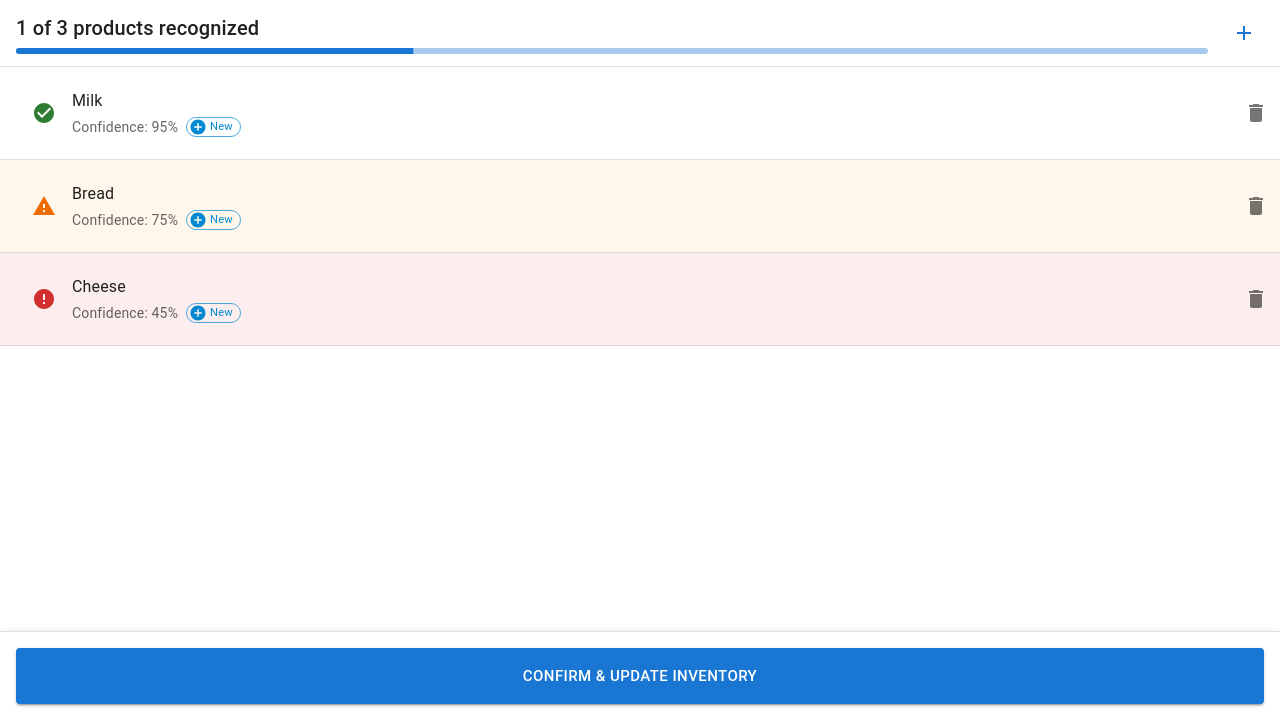
Test case: ReceiptReview Component - Story 5.3 › Add Product › should show validation error for invalid product name
Step 1. Click the button named "add product" → click(1244, 33), box [1224, 13, 1264, 53]
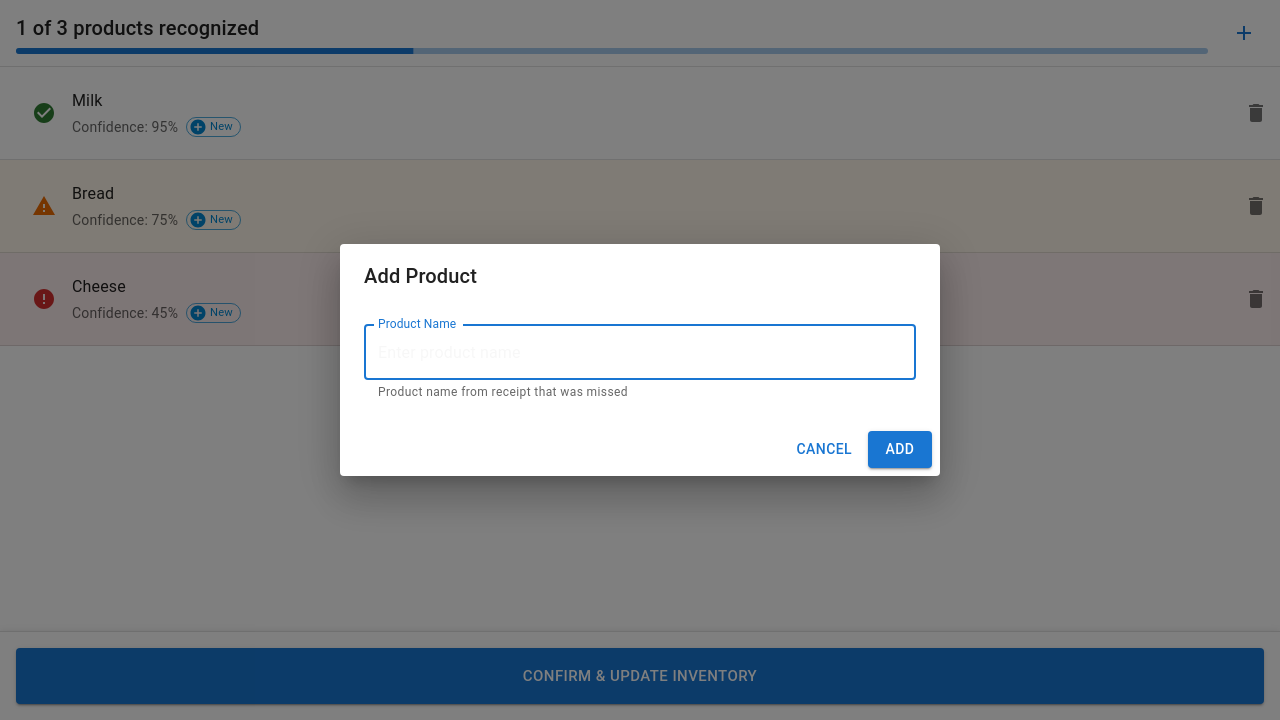
Step 2. Type "X" into the field labelled "Product Name" → (640, 352), box [364, 324, 916, 380]
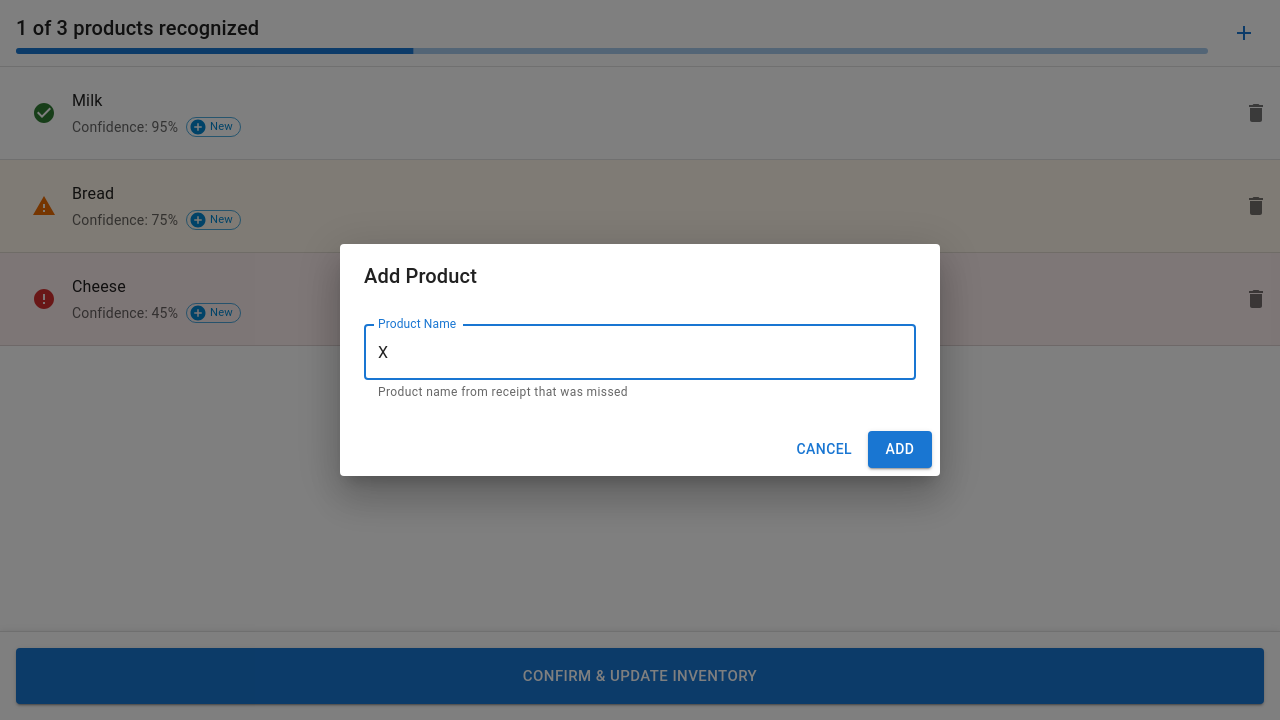
Step 3. Click the button "Add" → click(900, 449), box [868, 431, 932, 468]
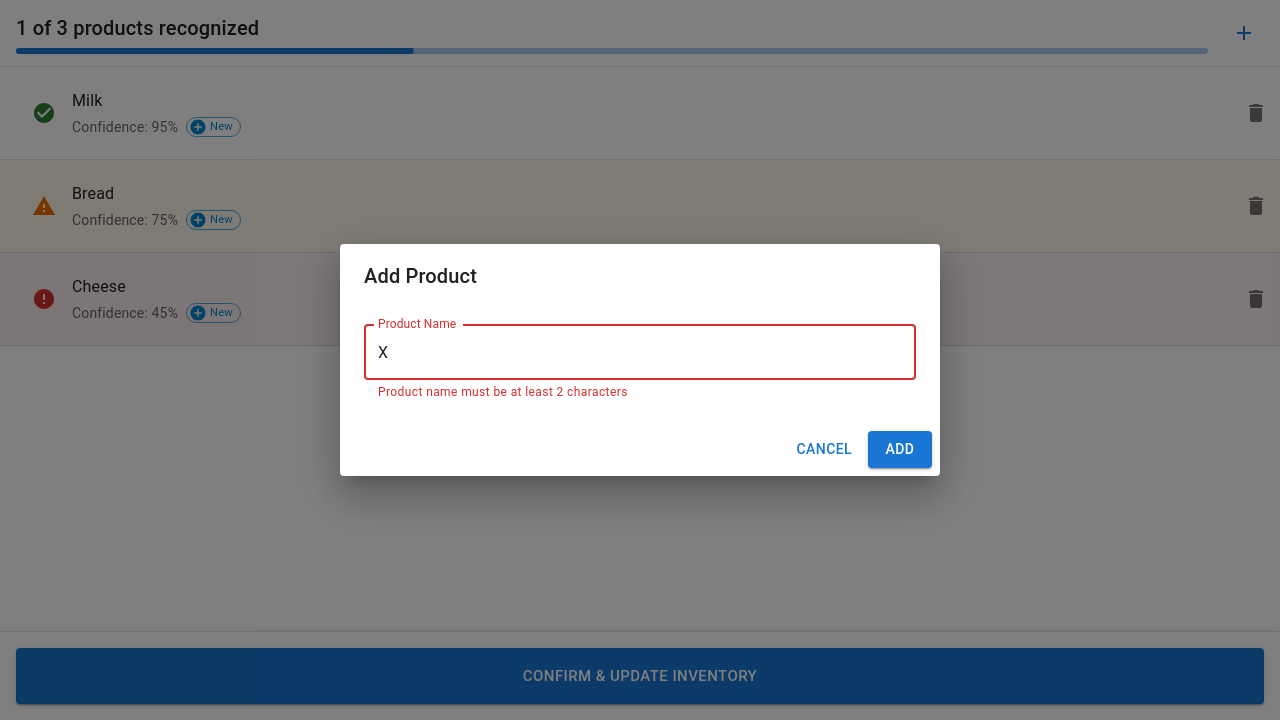
Expected: the text "Product name must be at least 2 characters" is shown, [378, 385, 628, 399]
